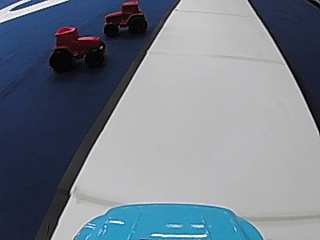tractor: (48, 23, 106, 71), (100, 0, 149, 37)
